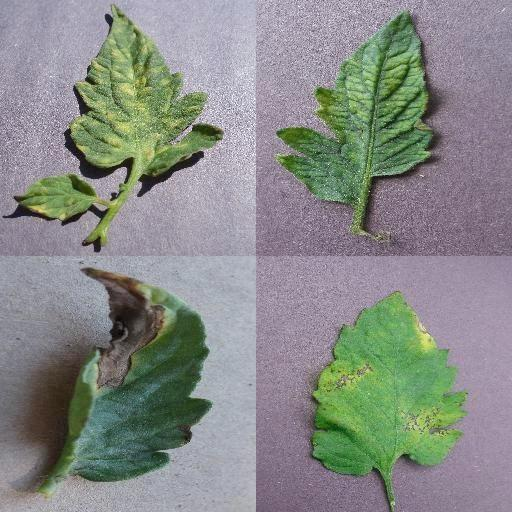Early Blight: (58, 263, 212, 479)
Leaf Mold: (71, 3, 224, 177), (15, 175, 97, 219)
Mosaic Virus: (276, 9, 436, 203)
Septoria: (310, 288, 470, 474)
